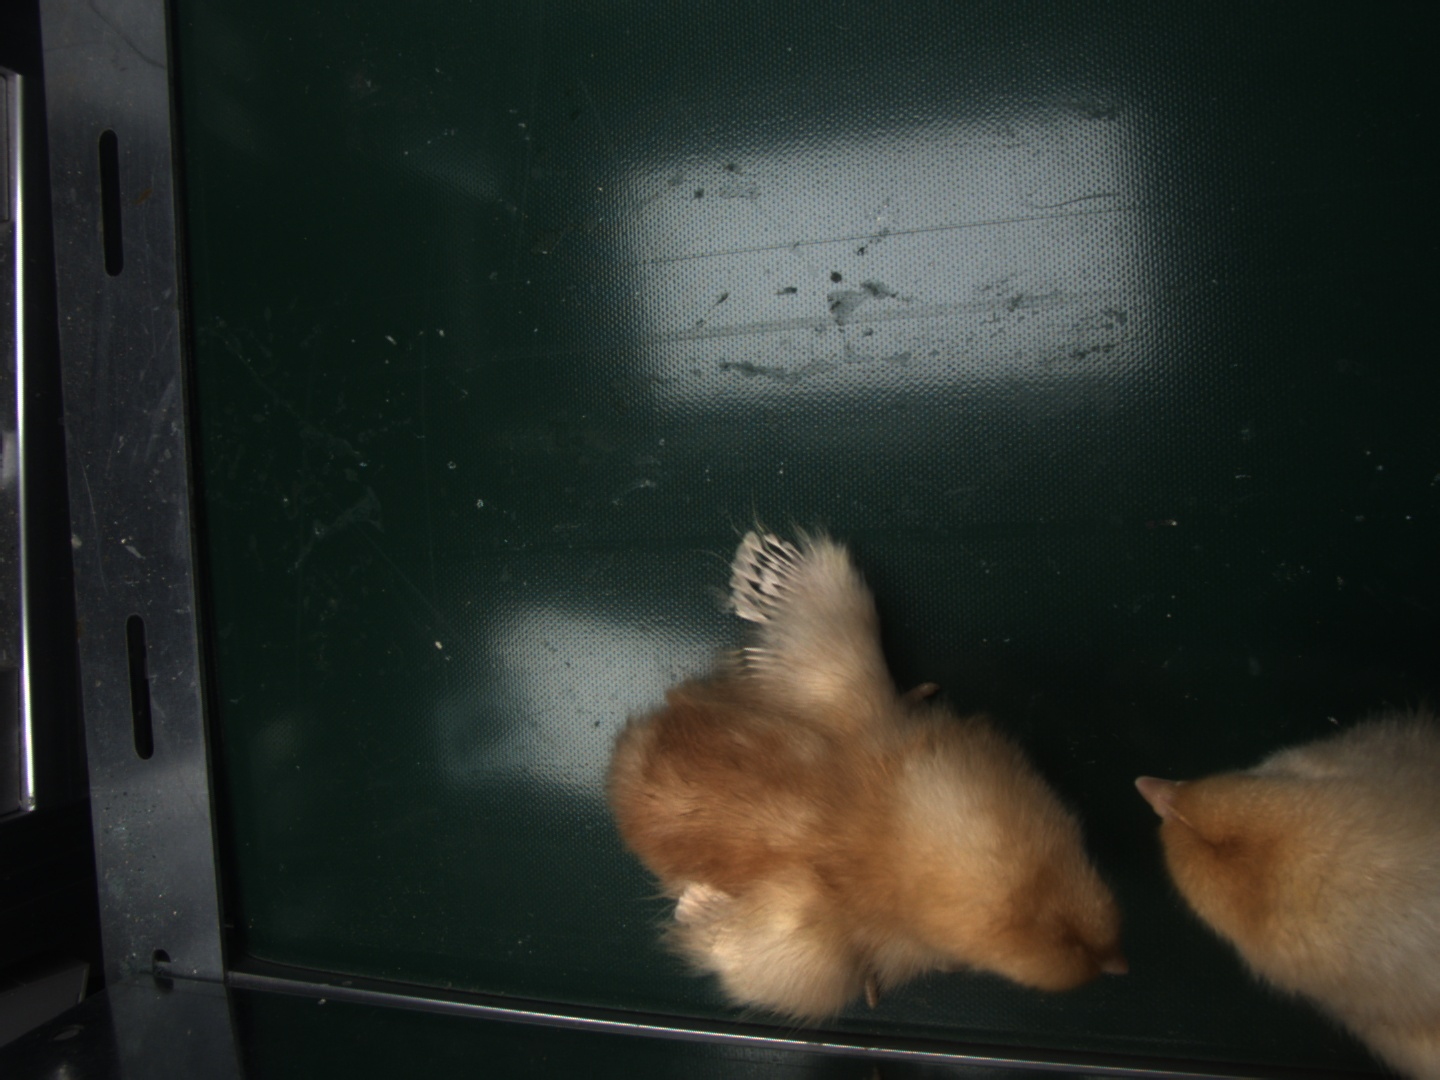female: (729, 528, 812, 625)
